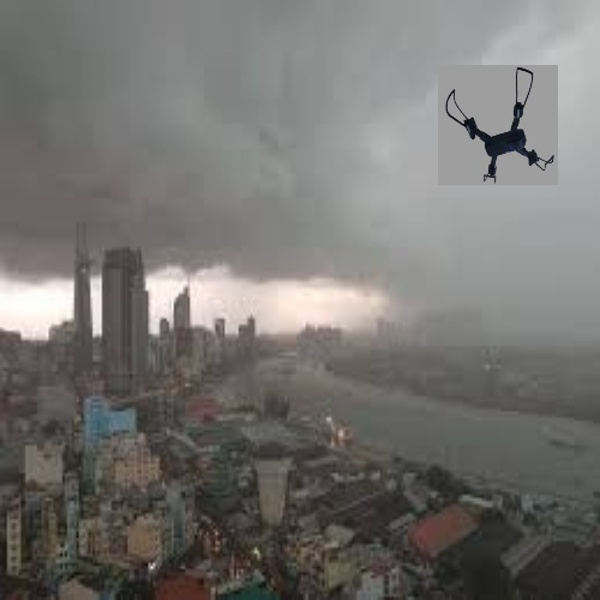drone: (444, 63, 556, 187)
